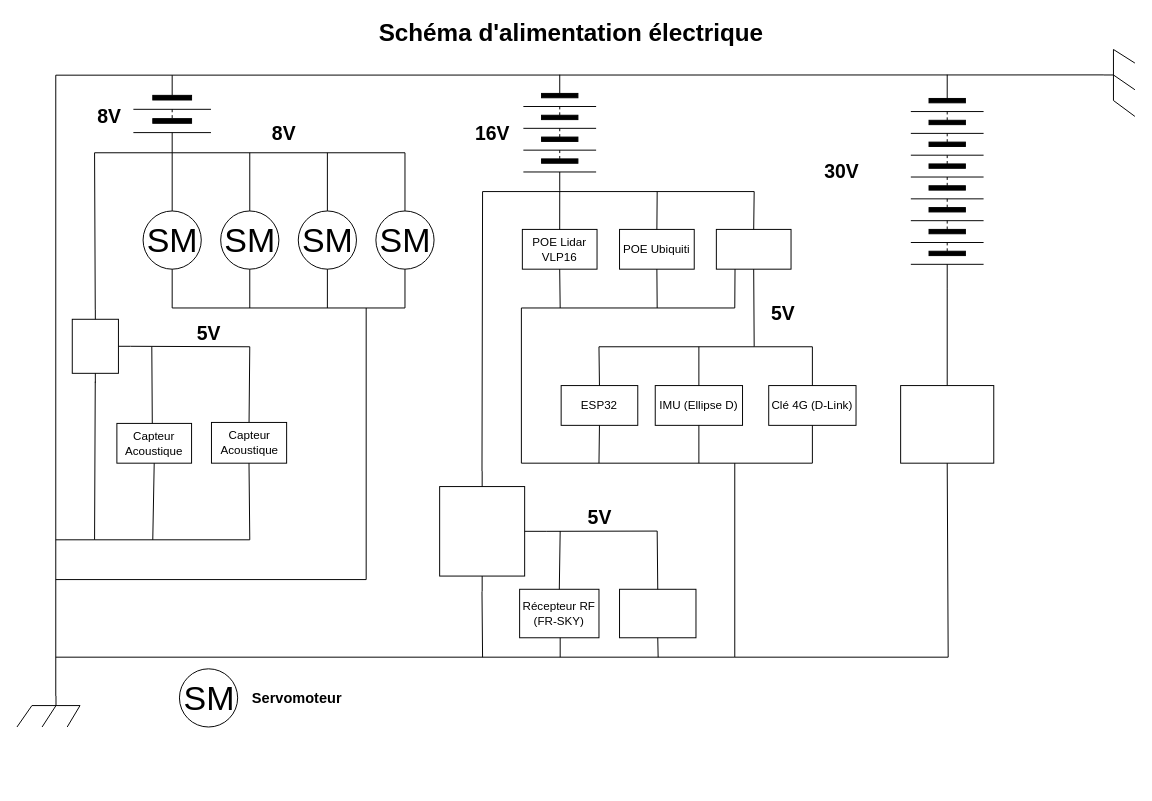
The diagram is 1152 pixels wide and 801 high, and some of its shapes have lost their labels. The centre of each missing label's shape, as x and y in pixels:
8V-5V: point 100,346
Arduino ATMEGA 2560 Mini: point 657,613
Intel Nuc: point 753,248
Propulseur Torqeedo Ultralight 403: point 947,424
Régulateur 16V-5V intégré au PCB: point 493,531
